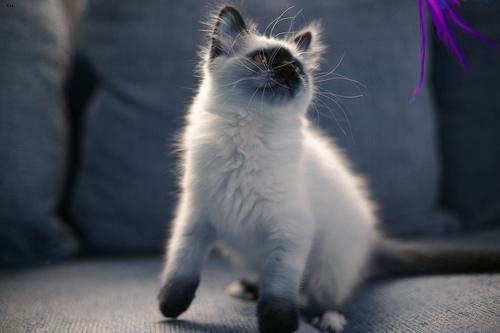cat-Birman: (207, 6, 314, 112)
